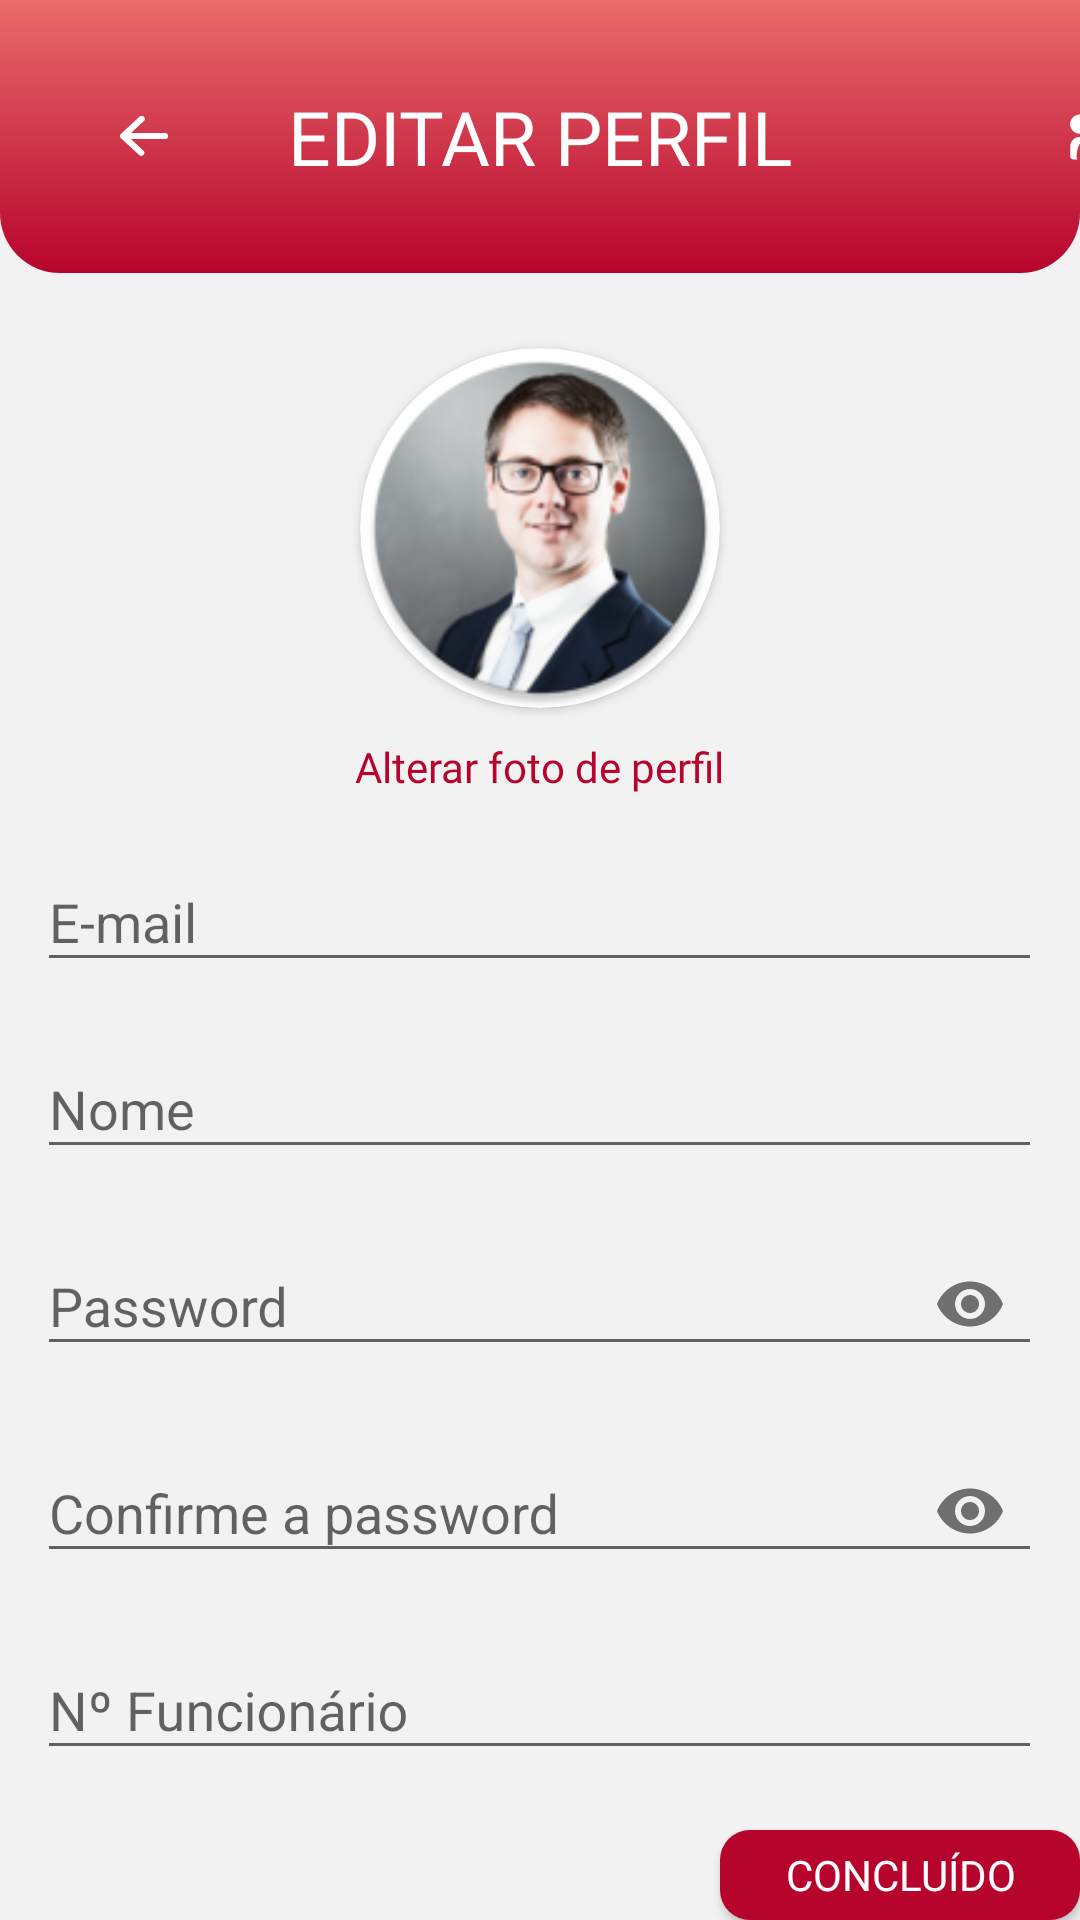

Icons on this 1080*1920 Android screen, each with the point to tap as (x,y):
seta: (144,136)
